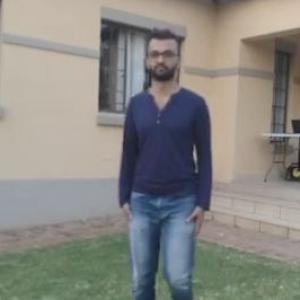follow: (116, 25, 217, 299)
